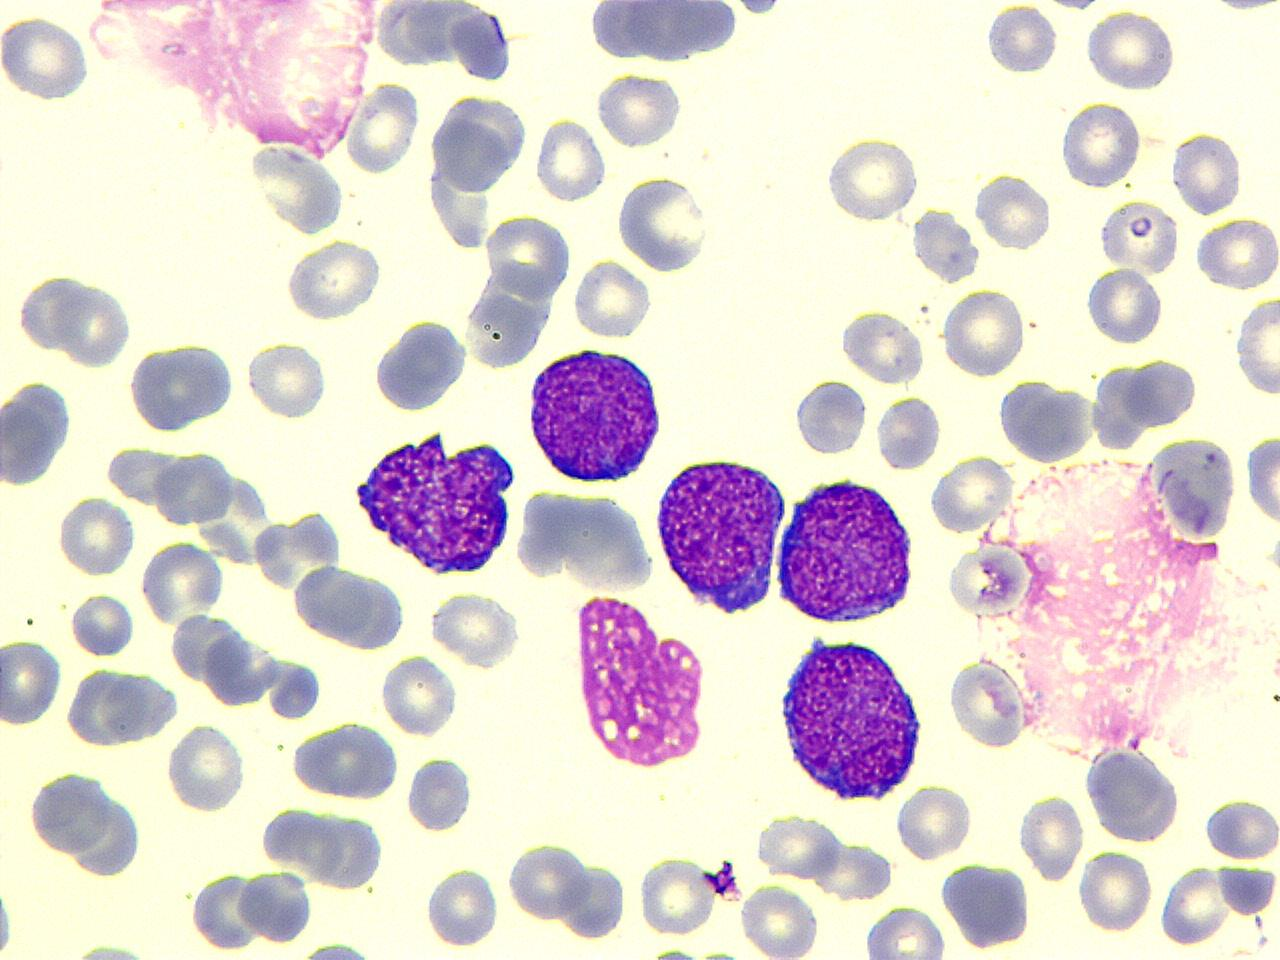Platelets: (790, 376, 866, 456), (402, 752, 474, 834), (449, 7, 514, 82), (69, 938, 150, 960), (302, 940, 372, 960), (0, 884, 17, 960), (650, 941, 700, 960), (1267, 535, 1280, 573)
RBC: (988, 0, 1280, 212), (1143, 433, 1239, 541), (247, 137, 348, 236), (288, 718, 402, 802), (821, 133, 921, 224), (617, 174, 705, 274), (283, 236, 382, 322), (0, 12, 91, 104), (1085, 6, 1177, 94), (941, 285, 1026, 380), (482, 212, 570, 301), (1058, 98, 1144, 190), (428, 586, 522, 670), (946, 654, 1027, 750), (593, 69, 686, 148), (166, 720, 245, 814), (344, 80, 419, 176), (140, 537, 223, 625), (506, 838, 591, 923), (928, 452, 1015, 534), (838, 307, 926, 386), (380, 650, 459, 740), (1076, 846, 1154, 936), (246, 339, 330, 422), (637, 853, 719, 938), (1017, 790, 1087, 884), (534, 115, 608, 206), (572, 257, 654, 339), (894, 779, 974, 863), (59, 278, 131, 370), (58, 493, 135, 579), (1170, 129, 1244, 218), (424, 864, 500, 950), (1097, 198, 1179, 275), (738, 880, 820, 958), (1086, 264, 1164, 347), (154, 448, 233, 528), (974, 171, 1052, 252), (1196, 216, 1278, 293), (945, 542, 1028, 618), (792, 375, 868, 458), (235, 866, 312, 946), (16, 270, 90, 354), (189, 867, 263, 951), (1159, 862, 1231, 948), (755, 810, 842, 880), (1122, 356, 1202, 429), (202, 627, 273, 709), (910, 205, 982, 286), (984, 2, 1059, 77), (0, 638, 62, 728), (404, 752, 473, 834), (1230, 292, 1280, 399), (876, 392, 942, 473), (447, 6, 512, 84), (1202, 797, 1278, 862), (861, 902, 948, 958), (68, 589, 136, 659), (1244, 431, 1280, 530), (1215, 864, 1277, 918)
WBC: (0, 0, 683, 206), (86, 0, 400, 169), (344, 425, 522, 582), (774, 630, 931, 804), (569, 590, 713, 775), (772, 474, 920, 628), (654, 456, 790, 618), (526, 344, 668, 486), (25, 764, 134, 871), (287, 560, 412, 652), (125, 339, 240, 437), (580, 2, 748, 68), (1143, 430, 1239, 544), (60, 665, 182, 749), (371, 315, 472, 415), (1083, 744, 1183, 845), (291, 718, 403, 802), (0, 375, 79, 489), (940, 860, 1030, 951), (910, 204, 984, 286)
